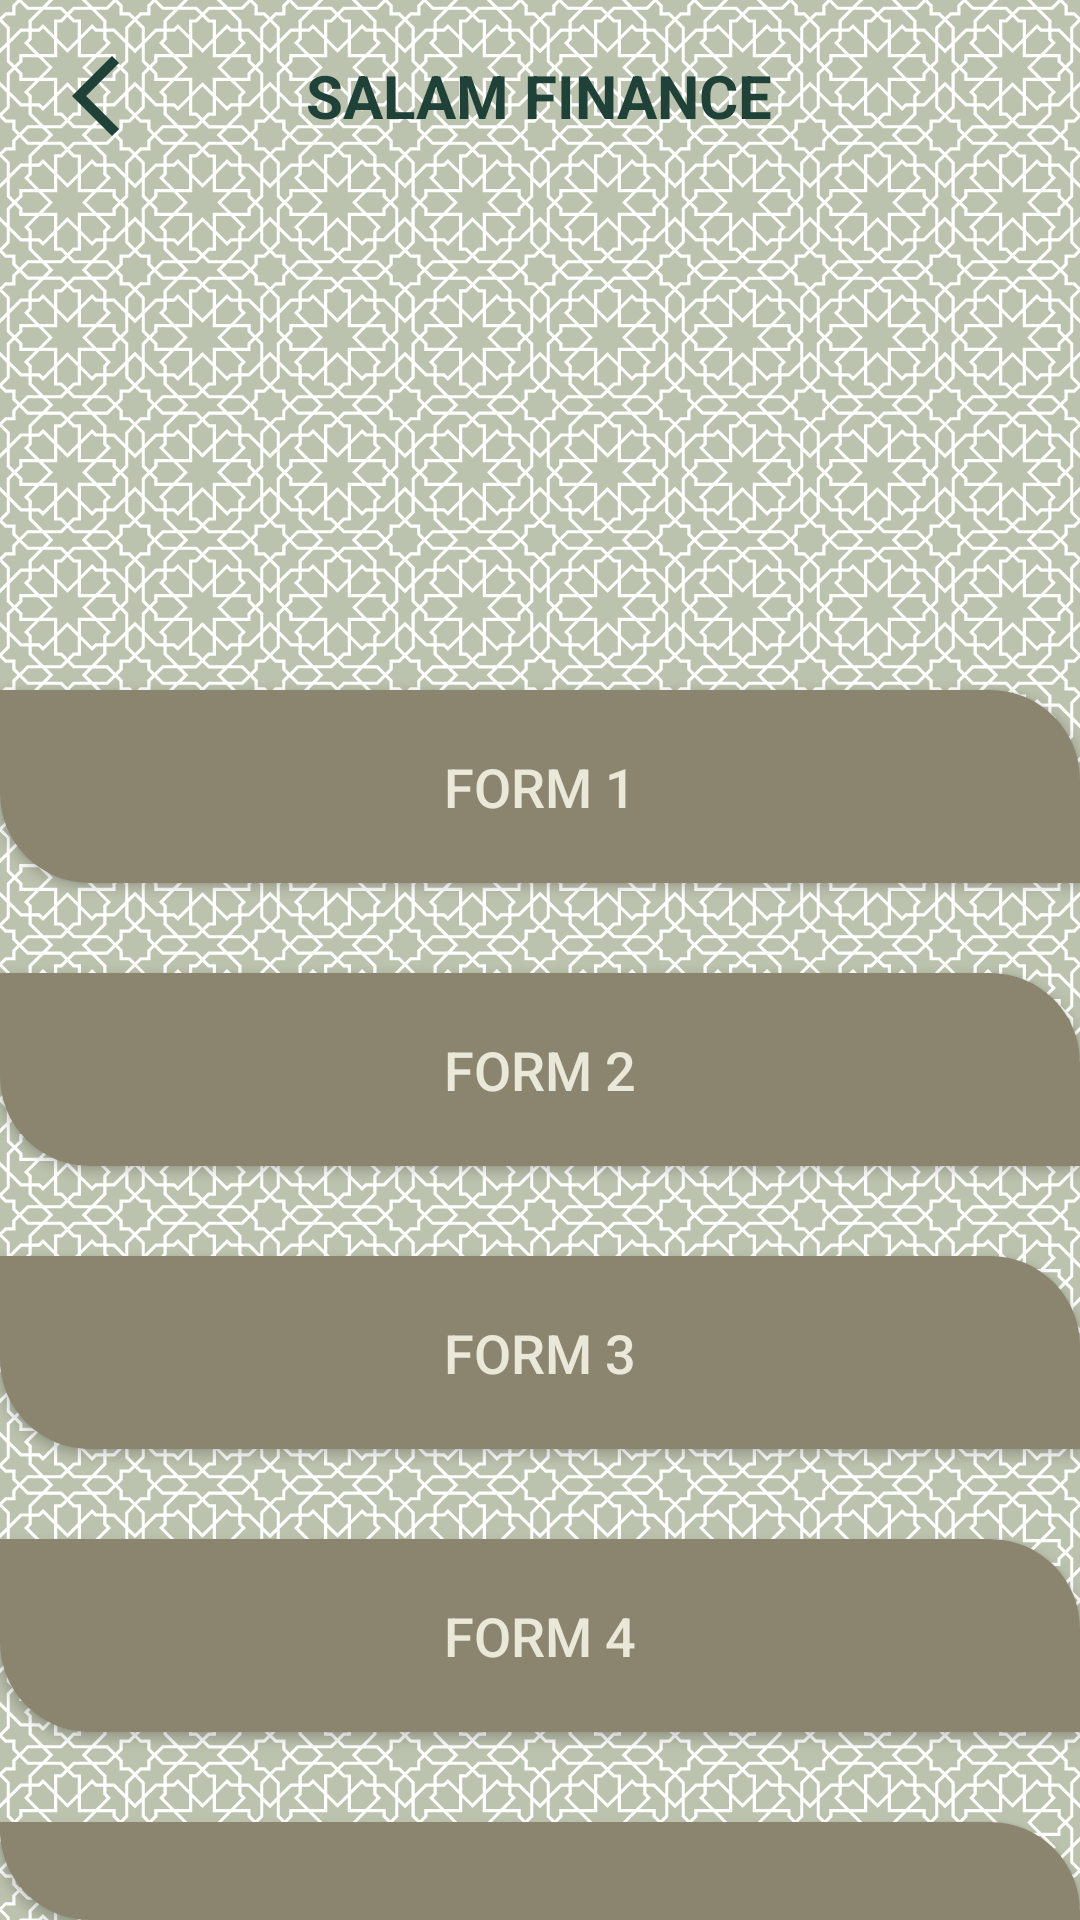

Locate icon controls on the screen. Image size 1080×1920, boxes as rect(x1, y1, x2, y2).
arrow back: rect(48, 48, 144, 144)
